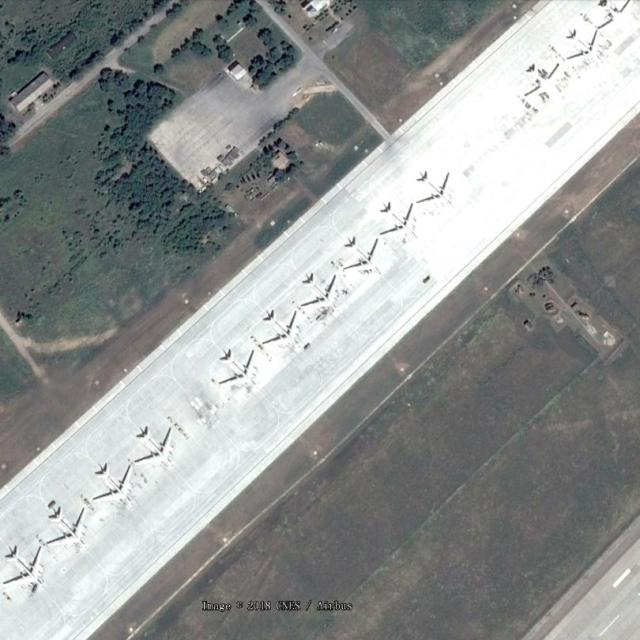fighter jet: (208, 340, 260, 391), (40, 494, 82, 551), (131, 418, 173, 474), (258, 309, 300, 364), (3, 540, 44, 596), (376, 190, 414, 250), (294, 270, 336, 320), (338, 228, 379, 275), (90, 465, 132, 510), (516, 62, 558, 104), (415, 171, 457, 211), (561, 23, 597, 67), (593, 0, 629, 33)
